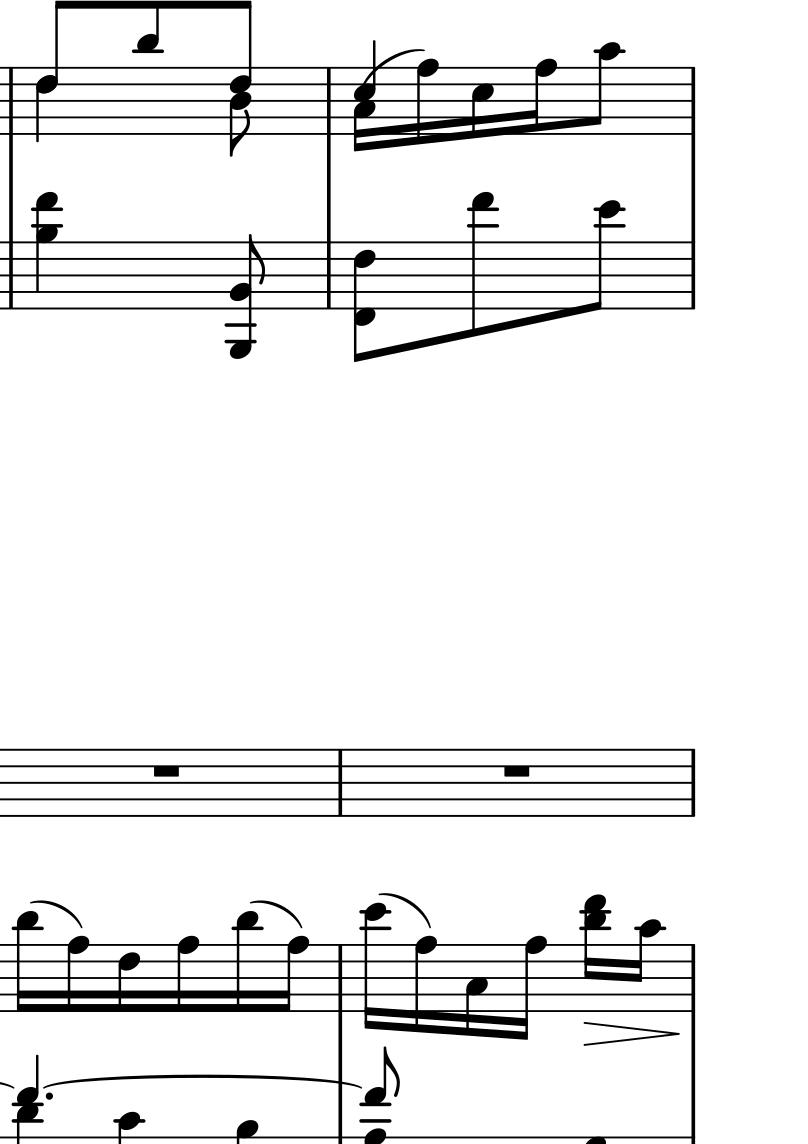16_10: (631, 919, 663, 1015)
16_11: (14, 910, 43, 1016), (233, 910, 261, 1015)
16_12: (362, 900, 391, 1033)
16_3: (463, 943, 490, 1039)
16_5: (469, 65, 496, 141)
16_6: (116, 942, 141, 1015)
16_8: (510, 935, 547, 1042), (274, 935, 310, 1015), (522, 58, 558, 135), (413, 935, 439, 1036), (416, 58, 440, 147), (65, 934, 91, 1015), (175, 935, 200, 1015)
16_9_11: (579, 892, 611, 1014)
4_9_13: (32, 191, 62, 312)
8_-1_6: (351, 239, 378, 364)
8_-5_2: (224, 231, 268, 362)
8_10: (588, 41, 623, 136)
8_11: (132, 1, 164, 138)
8_12: (583, 198, 625, 313)
8_13: (468, 191, 497, 339)
Diminuendo_hairpin: (583, 1021, 682, 1046)
Rests1: (498, 761, 535, 781), (148, 761, 184, 781)
Single_barline: (2, 67, 22, 135), (320, 241, 339, 310), (320, 67, 339, 134), (683, 67, 702, 134), (3, 241, 21, 310), (332, 945, 350, 1013), (683, 242, 701, 309), (683, 944, 701, 1011), (683, 750, 701, 816), (332, 751, 349, 815)
Slur: (40, 1072, 363, 1090), (362, 46, 423, 84), (378, 890, 435, 928), (248, 897, 306, 929), (30, 899, 85, 930)
dot: (41, 1090, 55, 1103)
